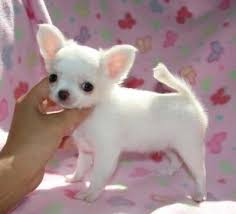chihuahua: (24, 19, 218, 211)
